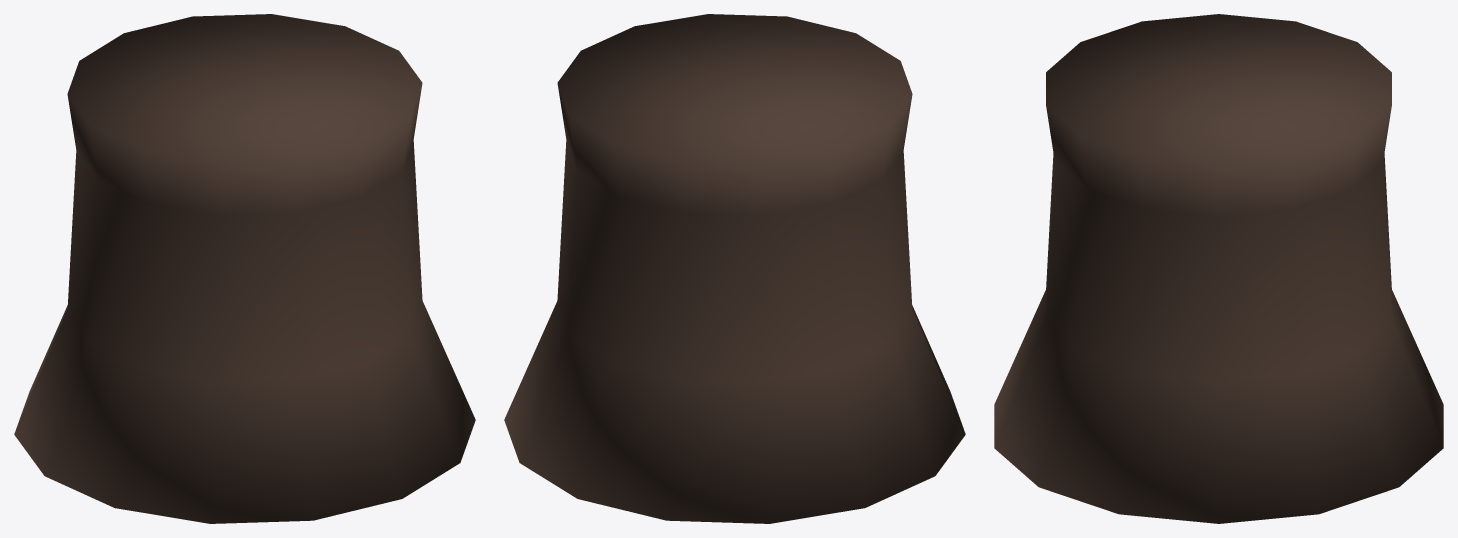
Rendered from stool_stump.glb.
The picture shows the model from 3 angles, left to right: view 1: azimuth 30°, elevation 25°; view 2: azimuth 150°, elevation 25°; view 3: azimuth 270°, elevation 25°; orthographic projection.
Visible parts, largest first — view 1: GD_stool_stump__m0; view 2: GD_stool_stump__m0; view 3: GD_stool_stump__m0.
Part boxes in pixels (x1,y1,x2,y2): GD_stool_stump__m0: [14, 14, 475, 523]; GD_stool_stump__m0: [504, 14, 965, 523]; GD_stool_stump__m0: [994, 14, 1443, 523].
Bounding box in the file's own units: 0.52 × 0.42 × 0.507.
